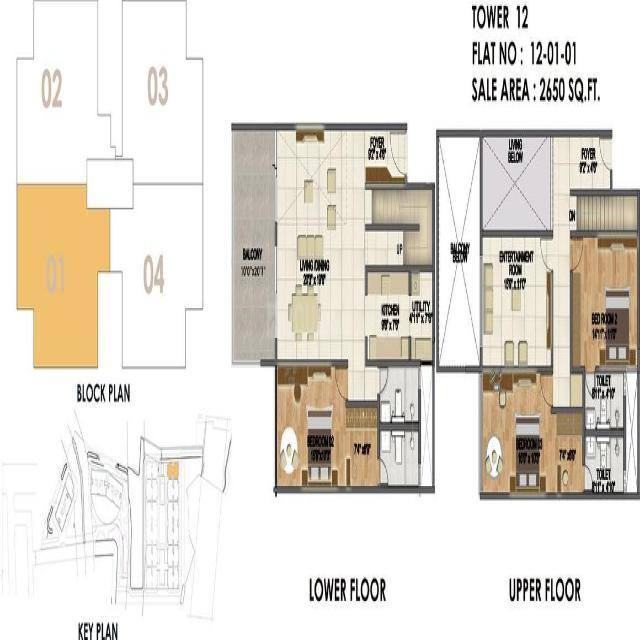Balcony-Sitout: (232, 129, 275, 363)
Bedroom: (570, 236, 638, 370)
Bedroom with Toilet: (275, 362, 420, 491), (480, 370, 624, 499)
Dining: (283, 279, 326, 348)
Enterance-Foyer: (375, 124, 416, 186)
Kitchen: (365, 268, 409, 363)
Living: (275, 123, 352, 266), (481, 234, 552, 369)
Toilet: (585, 373, 623, 430), (380, 431, 418, 488), (585, 437, 624, 492), (379, 367, 418, 422)
Utility: (410, 267, 433, 363)
